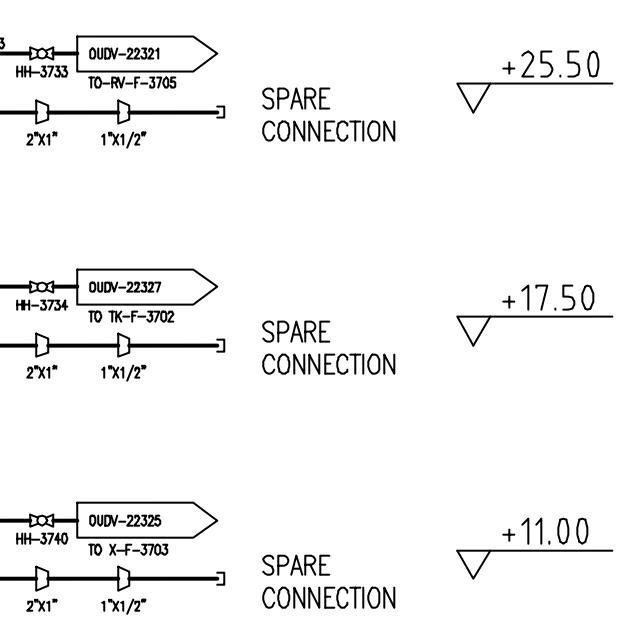BV2: (25, 508, 57, 532), (25, 276, 59, 296), (26, 45, 56, 61)
EC: (195, 99, 227, 123), (197, 335, 230, 357), (195, 569, 227, 589)
SP: (32, 561, 52, 597), (112, 560, 131, 595), (112, 329, 133, 360), (112, 96, 132, 128), (30, 331, 52, 359), (32, 97, 50, 127)
